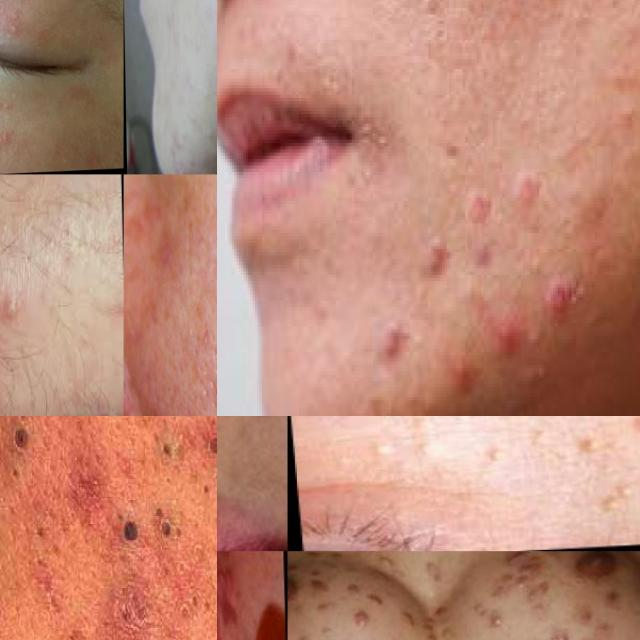comedone: (8, 416, 37, 463), (119, 511, 147, 551), (203, 428, 217, 464), (207, 120, 216, 148)
folliculitis: (238, 630, 251, 640)
keloid: (344, 590, 391, 635), (407, 603, 457, 640), (498, 551, 549, 580), (484, 608, 512, 633), (521, 628, 571, 640)
milium: (577, 476, 640, 526), (568, 431, 610, 458), (619, 416, 640, 446), (366, 416, 409, 424)
papule: (217, 555, 233, 598)
pustule: (0, 288, 25, 327)
